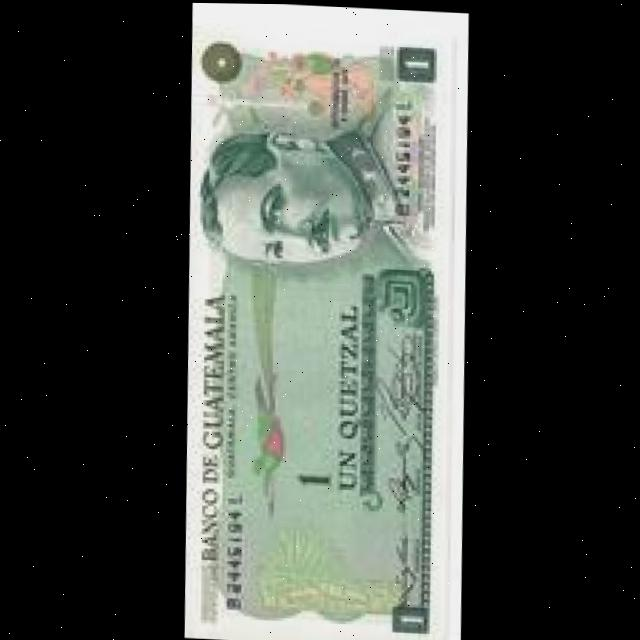banknote: (166, 2, 476, 640)
